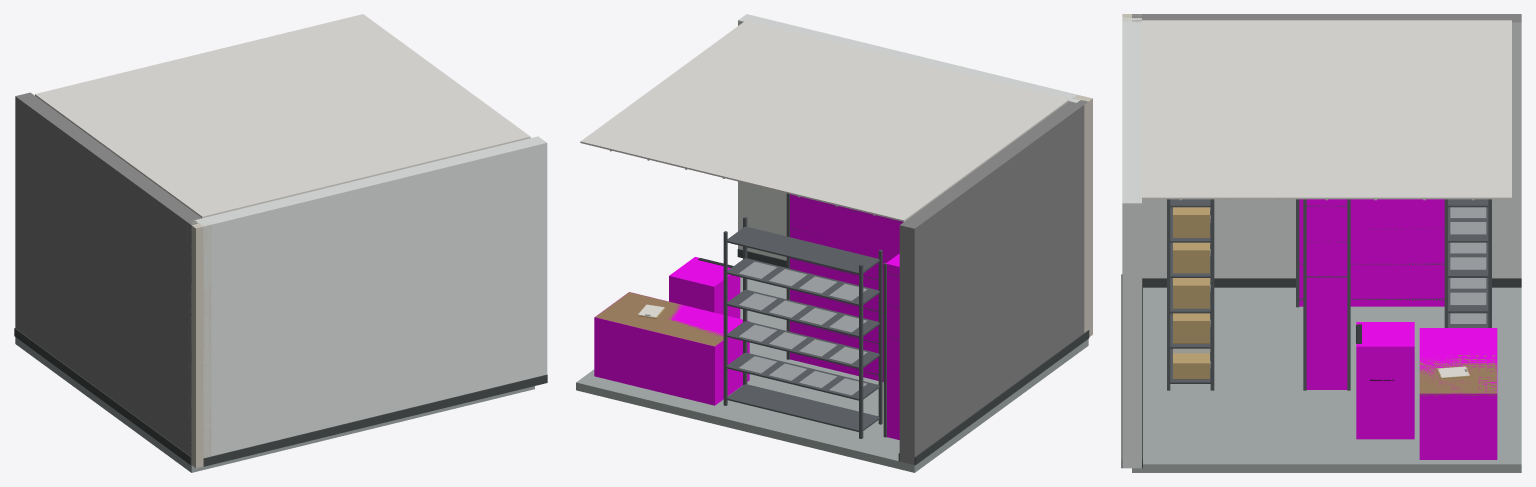
Rendered from ENV_ResearchRecordsArchive.glb.
3 views of the same model, side by side, from view 1: azimuth 30°, elevation 25°; view 2: azimuth 150°, elevation 25°; view 3: azimuth 270°, elevation 25° (orthographic). The views are drawn at different scales.
Visible parts, largest first — view 1: ENV_ResearchRecordsArchive_Architecture, ENV_ResearchRecordsArchive_Ceiling, ENV_ResearchRecordsArchive_Posts; view 2: ENV_ResearchRecordsArchive_Architecture, ENV_ResearchRecordsArchive_Ceiling, RA_Shelving_Emptied, PROP_Desk_Clinical_COL-colonly.002, PROP_Shelving_Archive_COL-colonly.001, PROP_Chair_Office_COL-colonly.005, PROP_Desk_Clinical_Mesh.002, PROP_Shelving_Archive_COL-colonly.002, ENV_ResearchRecordsArchive_Posts, PROP_Shelving_Archive_Mesh.002, PROP_Shelving_Archive_Mesh.001; view 3: ENV_ResearchRecordsArchive_Ceiling, ENV_ResearchRecordsArchive_Architecture, PROP_Shelving_Archive_COL-colonly.002, PROP_Shelving_Archive_Mesh, PROP_Desk_Clinical_COL-colonly.002, PROP_Shelving_Archive_COL-colonly.001, PROP_Chair_Office_COL-colonly.005, RA_Shelving_Emptied, PROP_Desk_Clinical_Mesh.002, PROP_Shelving_Archive_Mesh.001, PROP_Shelving_Archive_Mesh.002.
Part boxes in pixels (x1=…): ENV_ResearchRecordsArchive_Architecture: x1=14, y1=92, x2=547, y2=472; ENV_ResearchRecordsArchive_Ceiling: x1=35, y1=14, x2=530, y2=218; ENV_ResearchRecordsArchive_Posts: x1=187, y1=219, x2=211, y2=467; ENV_ResearchRecordsArchive_Architecture: x1=576, y1=14, x2=1089, y2=472; ENV_ResearchRecordsArchive_Ceiling: x1=580, y1=20, x2=1068, y2=221; RA_Shelving_Emptied: x1=723, y1=217, x2=882, y2=438; PROP_Desk_Clinical_COL-colonly.002: x1=594, y1=292, x2=749, y2=405; PROP_Shelving_Archive_COL-colonly.001: x1=790, y1=194, x2=903, y2=381; PROP_Chair_Office_COL-colonly.005: x1=669, y1=257, x2=740, y2=318; PROP_Desk_Clinical_Mesh.002: x1=595, y1=292, x2=723, y2=346; PROP_Shelving_Archive_COL-colonly.002: x1=886, y1=253, x2=899, y2=439; ENV_ResearchRecordsArchive_Posts: x1=1074, y1=95, x2=1092, y2=336; PROP_Shelving_Archive_Mesh.002: x1=883, y1=262, x2=899, y2=437; PROP_Shelving_Archive_Mesh.001: x1=786, y1=193, x2=901, y2=376; ENV_ResearchRecordsArchive_Ceiling: x1=1142, y1=20, x2=1511, y2=200; ENV_ResearchRecordsArchive_Architecture: x1=1121, y1=14, x2=1521, y2=472; PROP_Shelving_Archive_COL-colonly.002: x1=1299, y1=199, x2=1444, y2=306; PROP_Shelving_Archive_Mesh: x1=1167, y1=199, x2=1214, y2=390; PROP_Desk_Clinical_COL-colonly.002: x1=1419, y1=328, x2=1497, y2=459; PROP_Shelving_Archive_COL-colonly.001: x1=1306, y1=199, x2=1347, y2=389; PROP_Chair_Office_COL-colonly.005: x1=1356, y1=322, x2=1414, y2=439; RA_Shelving_Emptied: x1=1444, y1=199, x2=1491, y2=327; PROP_Desk_Clinical_Mesh.002: x1=1419, y1=353, x2=1496, y2=395; PROP_Shelving_Archive_Mesh.001: x1=1303, y1=199, x2=1350, y2=390; PROP_Shelving_Archive_Mesh.002: x1=1296, y1=199, x2=1444, y2=307.
Size of what is drawn, in the model's own units: 4.61 by 3.12 by 4.11.
